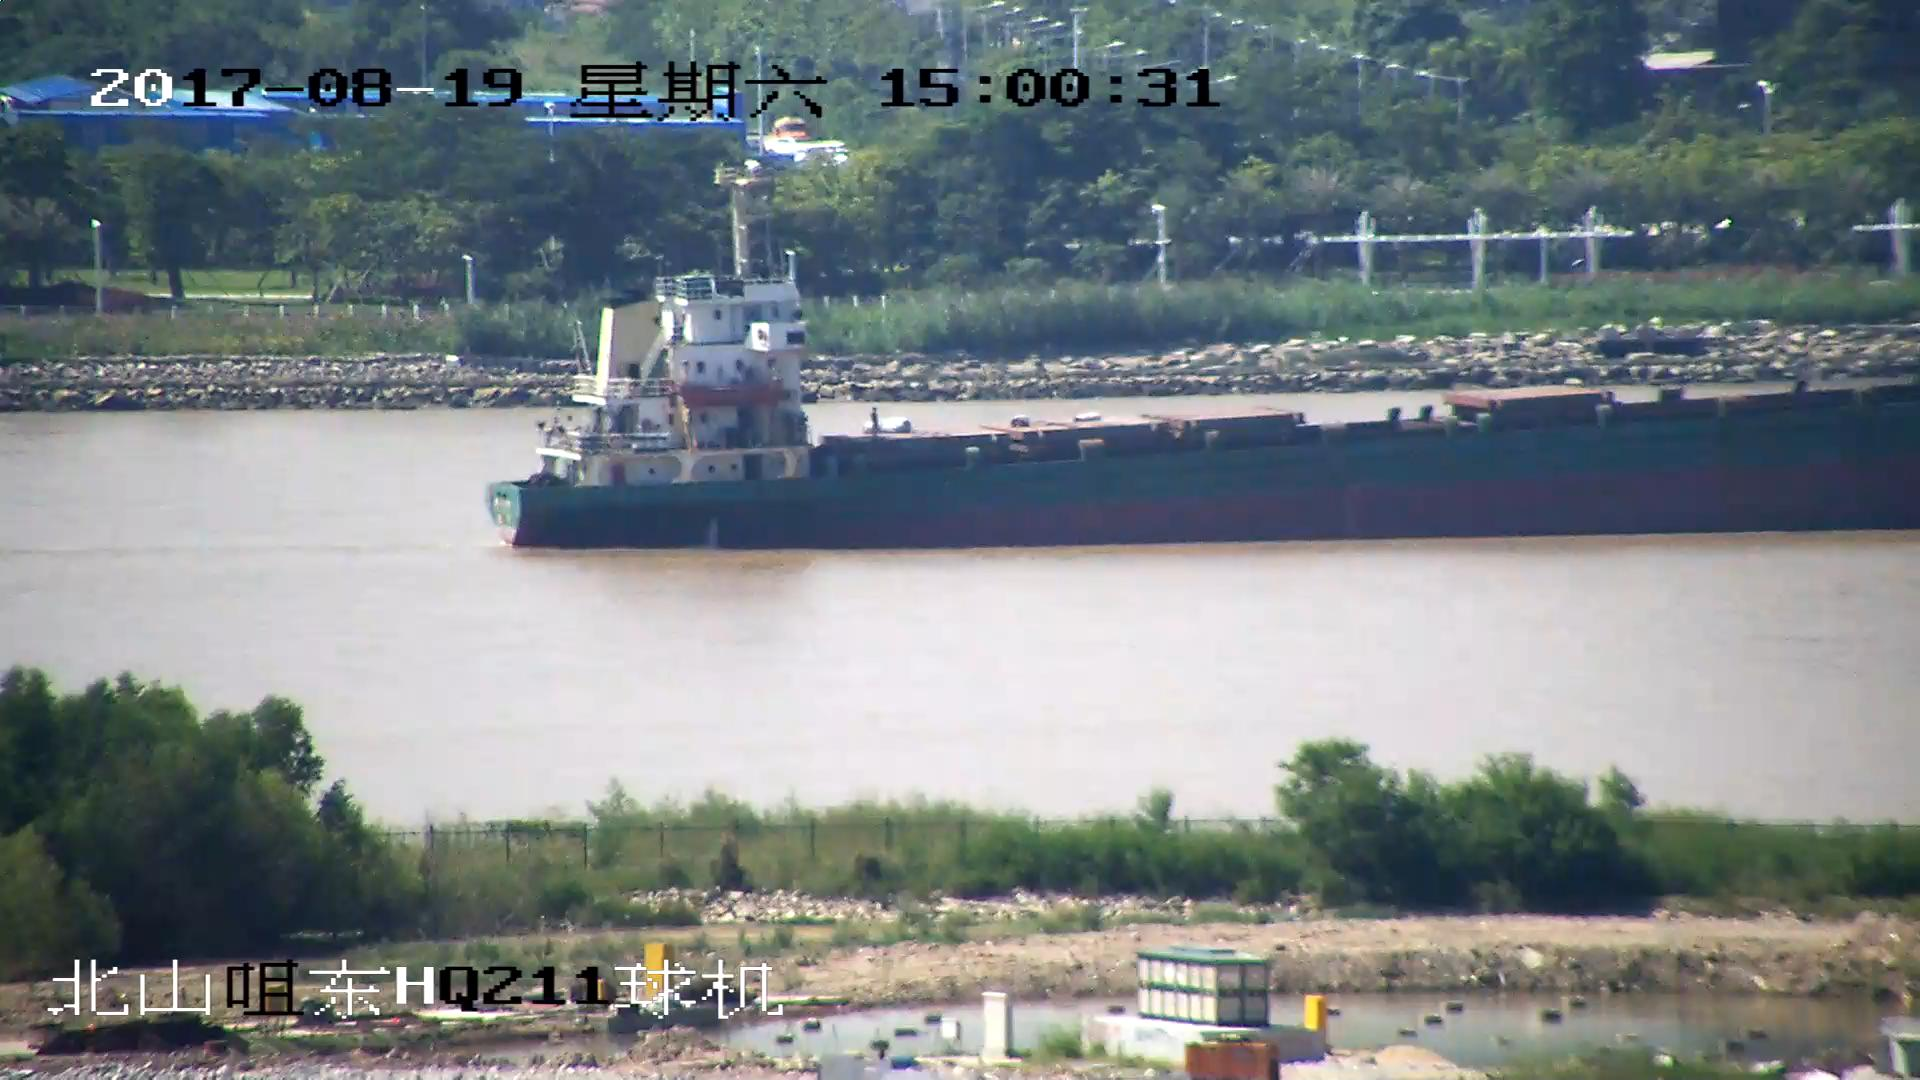general cargo ship: (495, 177, 1920, 541)
